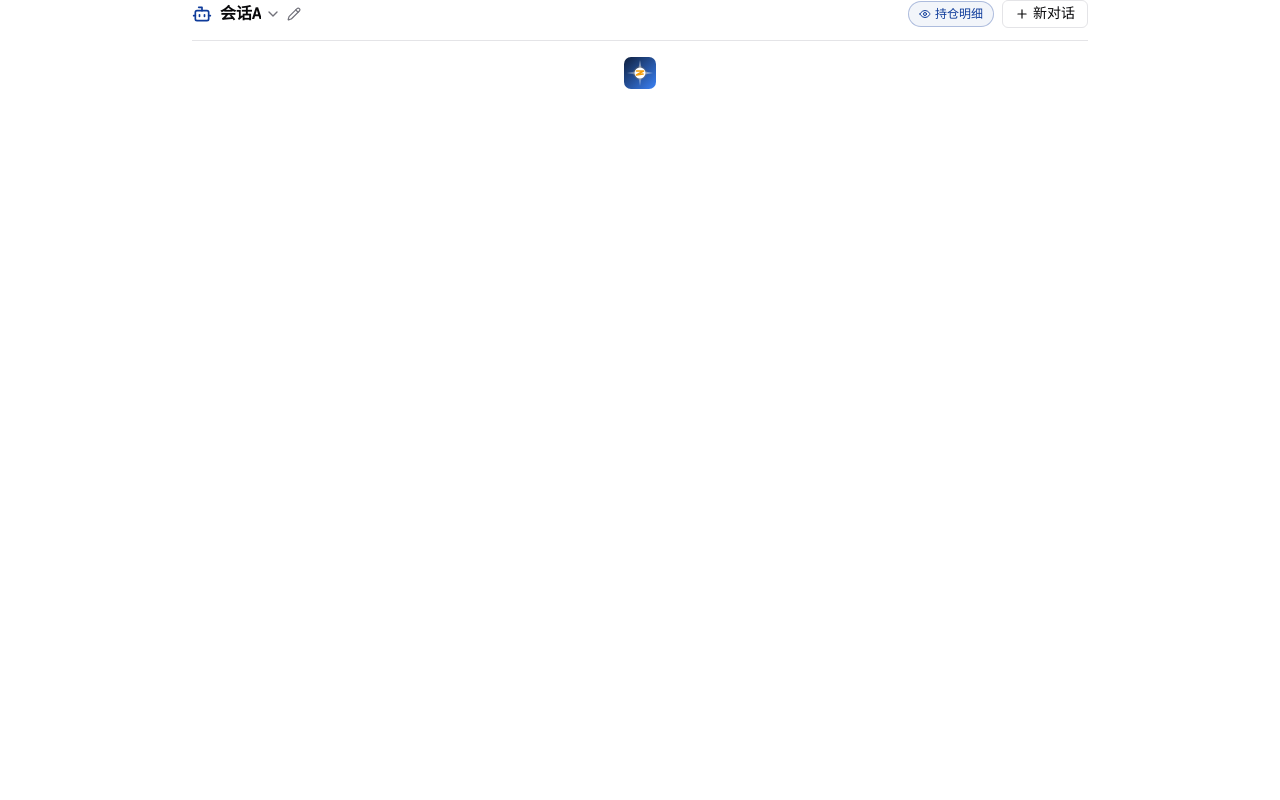
it: AIChat 确认并发守卫与归档行键盘可达 › 归档会话行可聚焦且 Enter 触发切换
Click the button "会话A": (251, 14) top-left (220, 2), bottom-right (281, 26)
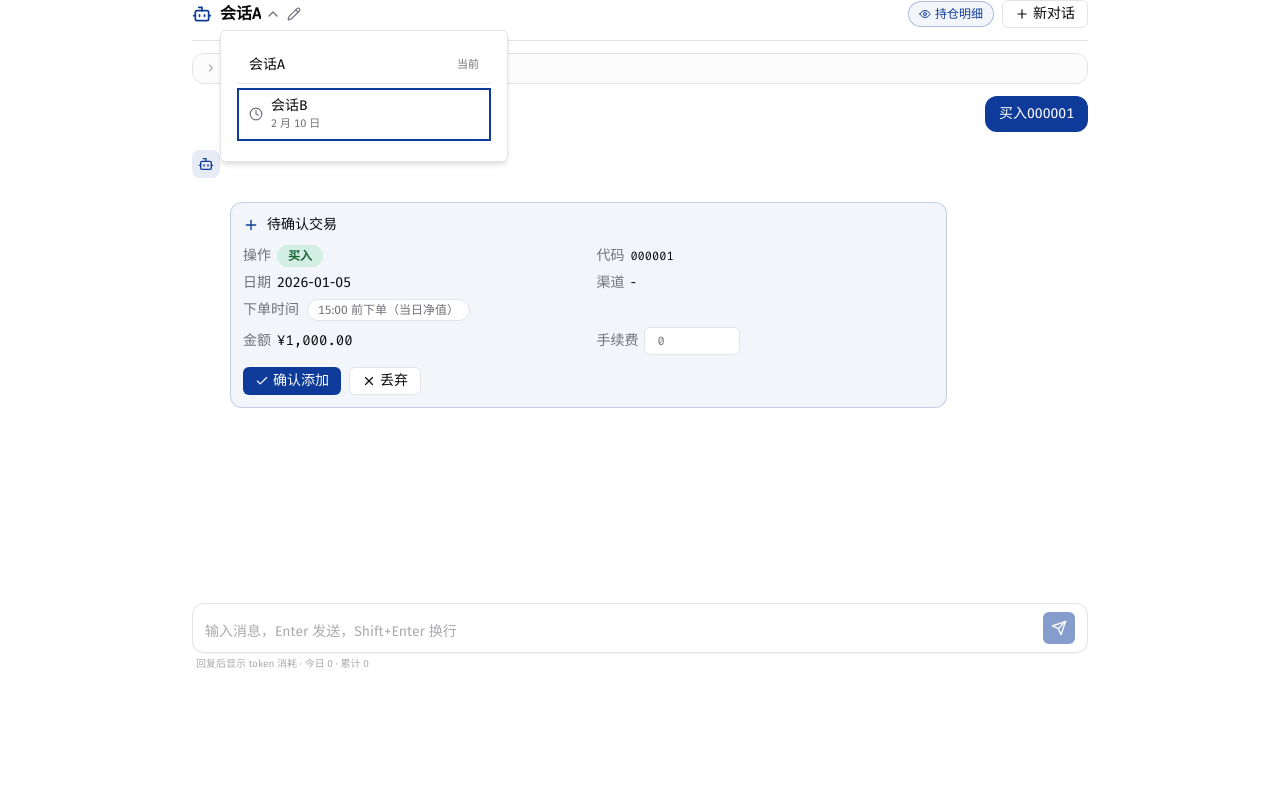
Press Enter in the button "会话B 2 月 10 日", box top-left (237, 88), bottom-right (491, 140)
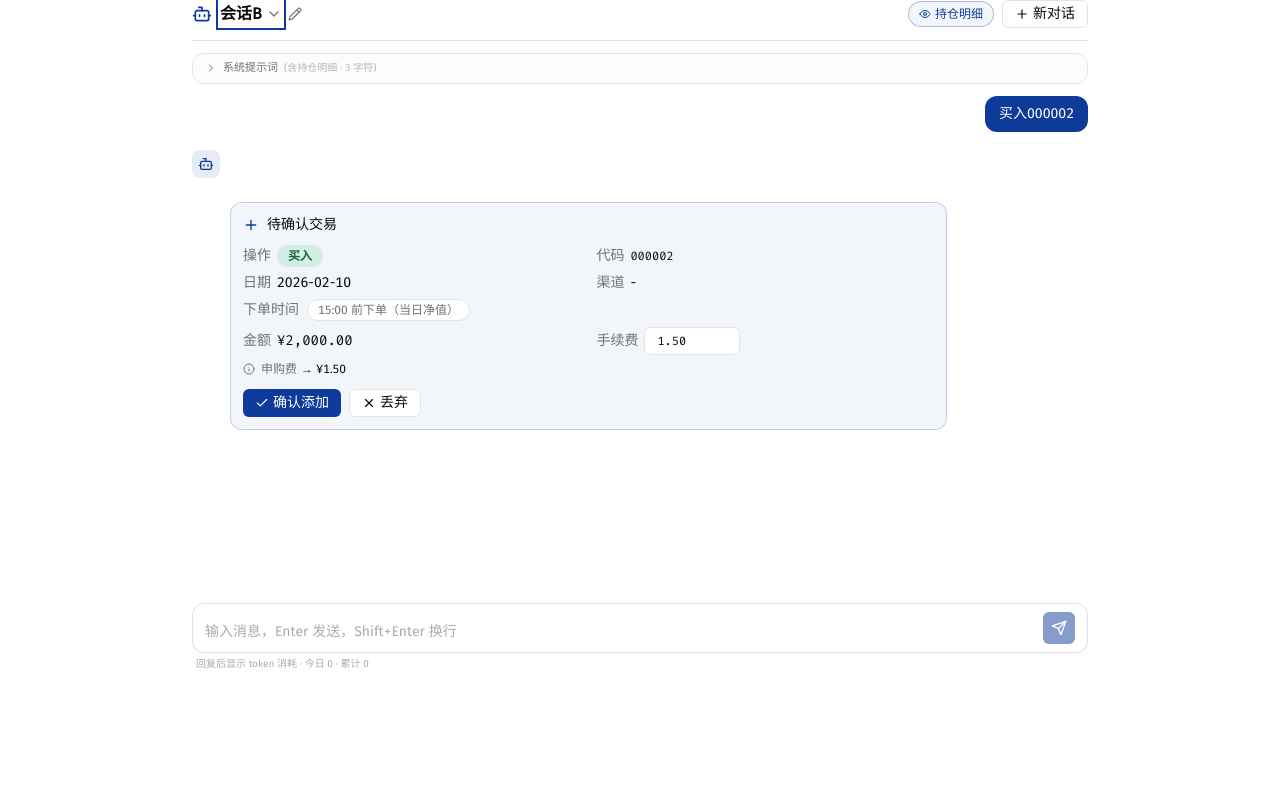
Result: the text "000002" is shown at top-left (630, 248), bottom-right (674, 264)
Result: the text "000001" is gone
